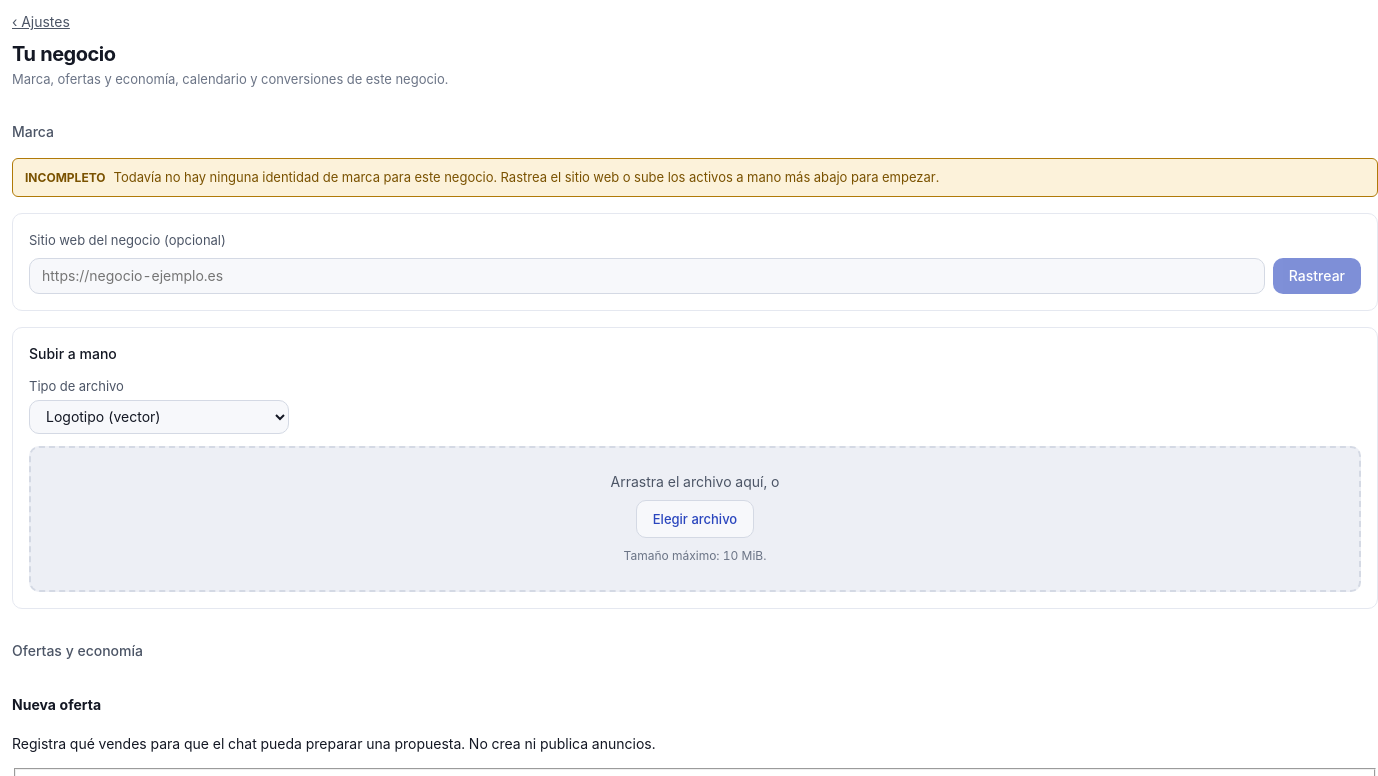
Test case: AjustesNegocioPage — Marca › un sitio inalcanzable explica el motivo del servidor y ofrece el camino manual
Check: the heading "Marca" is shown, box x1=12 y1=122 x2=54 y2=140
Type "https://sitio-caido.example" into the field labelled "Sitio web del negocio (opcional)" at coordinates (647, 276), box x1=29 y1=258 x2=1265 y2=294
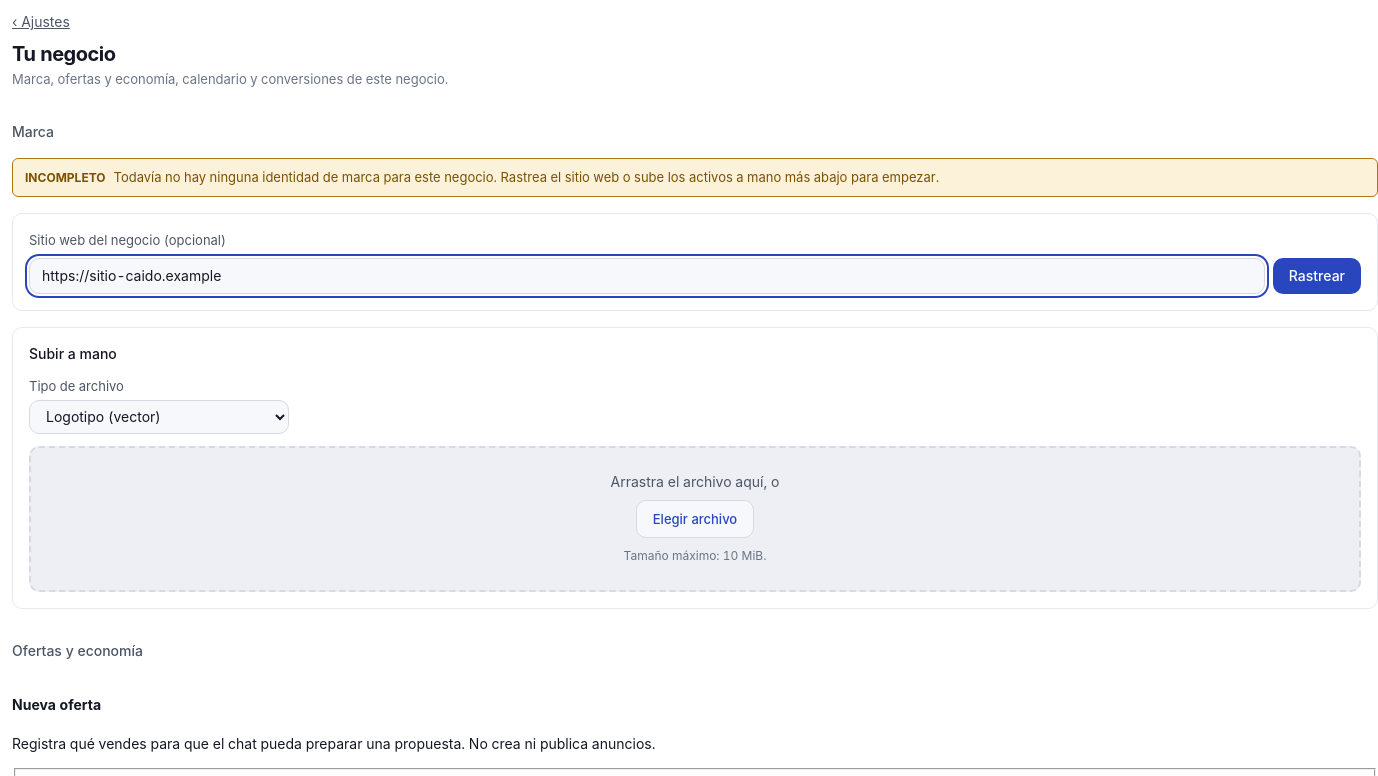
Click the button "Rastrear" at coordinates (1317, 276), box x1=1273 y1=258 x2=1361 y2=294
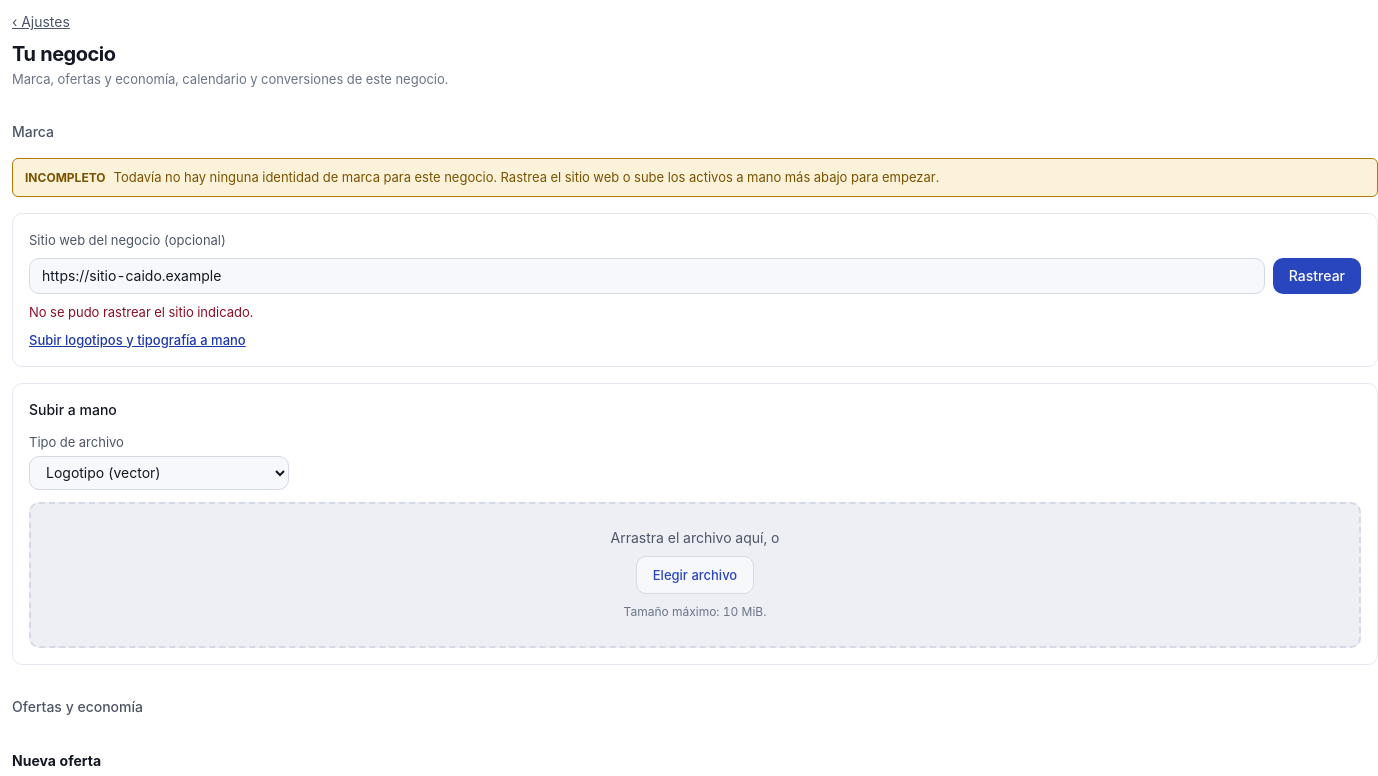
Check: the heading "Subir a mano" is shown, box x1=29 y1=400 x2=117 y2=418
Check: the text "No se pudo rastrear el sitio indicado." is shown, box x1=29 y1=302 x2=253 y2=322
